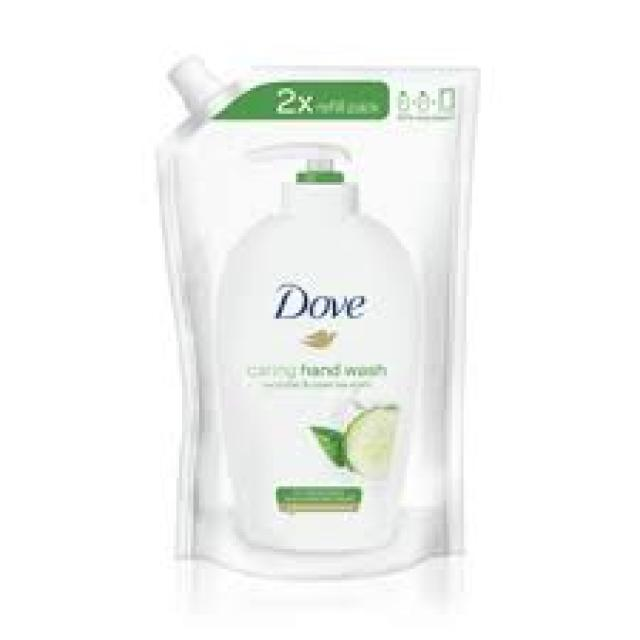liquid soap: (145, 48, 495, 574)
